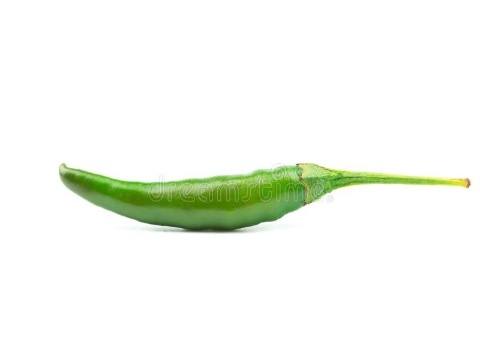Chilli: (48, 149, 472, 256)
